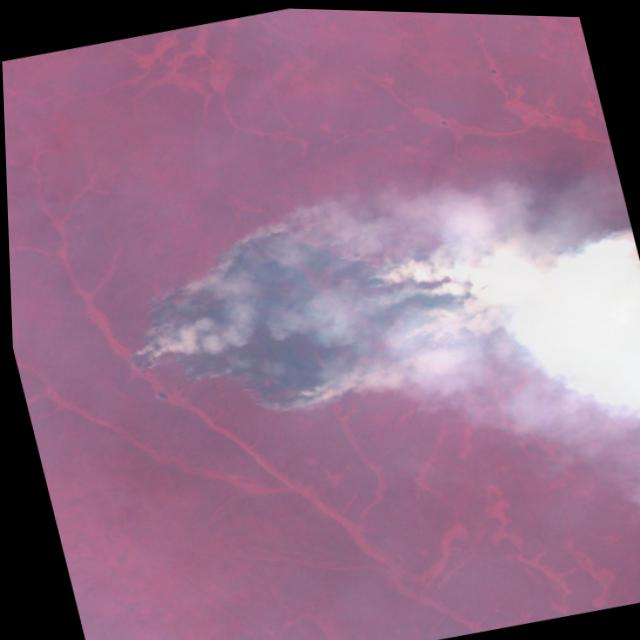fire: (91, 171, 526, 452)
